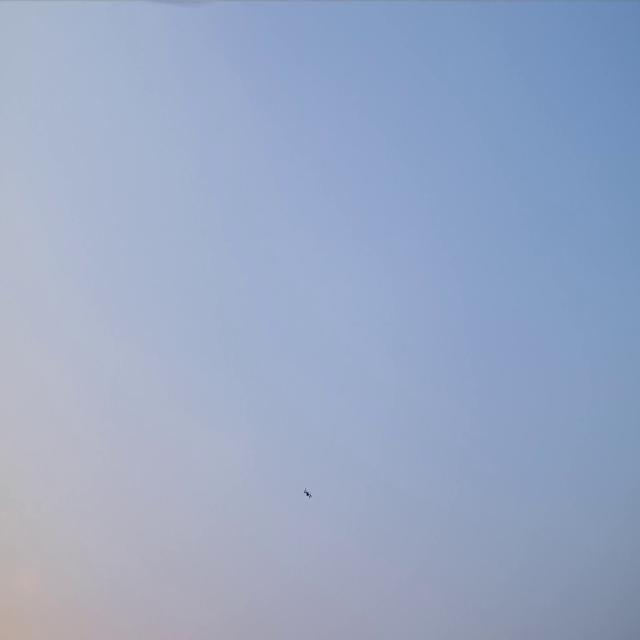UAV: (303, 487, 313, 500)
